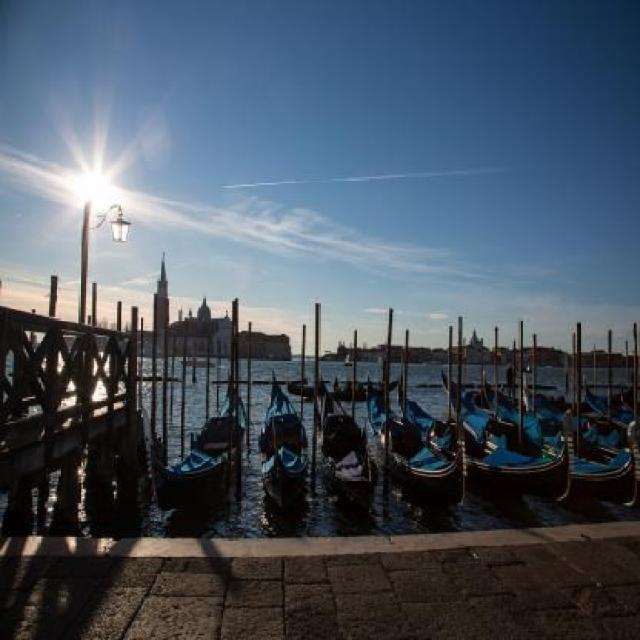ship: (440, 366, 638, 497), (397, 373, 572, 502), (141, 376, 245, 513), (366, 379, 465, 508), (314, 373, 378, 509), (257, 381, 308, 512), (283, 368, 399, 398)
